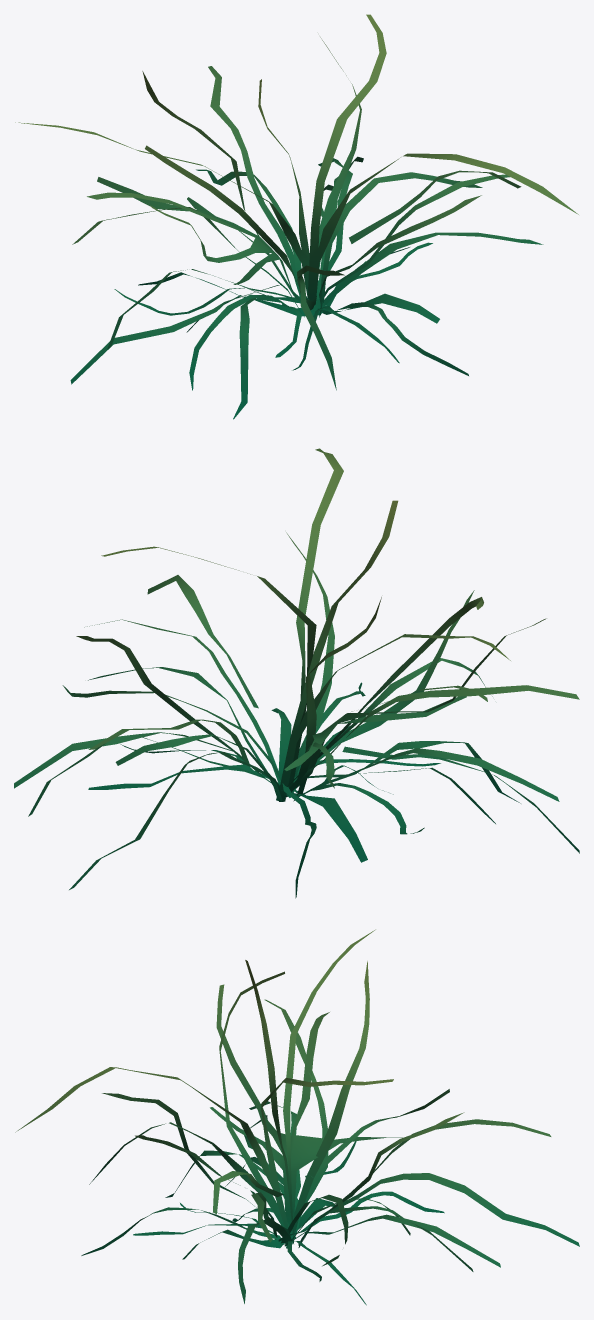
The model's file is grass_medium_01_7.glb.
3 views of the same model, one above another, from view 1: azimuth 30°, elevation 25°; view 2: azimuth 150°, elevation 25°; view 3: azimuth 270°, elevation 25° (orthographic). The views are drawn at different scales.
Parts seen in each view (by area): view 1: grass_medium_01_small_b_LOD0; view 2: grass_medium_01_small_b_LOD0; view 3: grass_medium_01_small_b_LOD0.
Boxes of the visible parts, left/top/right/bottom form: grass_medium_01_small_b_LOD0: left=15, top=14, right=578, bottom=419; grass_medium_01_small_b_LOD0: left=14, top=448, right=579, bottom=898; grass_medium_01_small_b_LOD0: left=15, top=929, right=579, bottom=1305.
Size of the model in its own units: 0.166 by 0.0999 by 0.1899.
